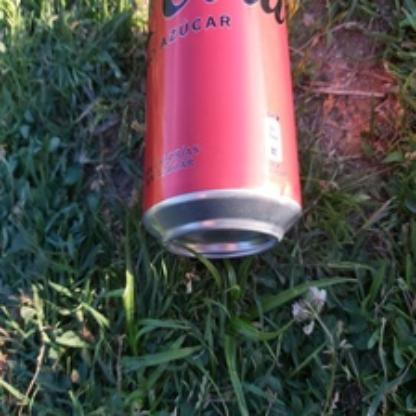Can: (142, 0, 302, 258)
